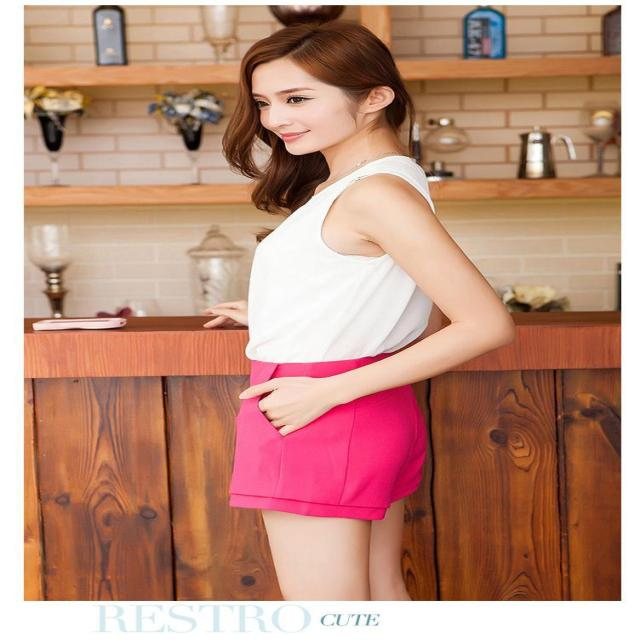shorts: (215, 353, 450, 533)
